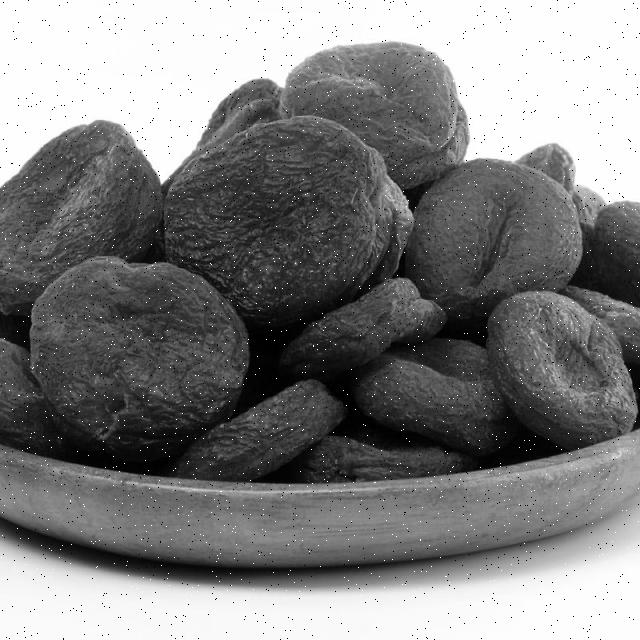Kayisi: (166, 120, 418, 327), (40, 263, 254, 449), (412, 164, 581, 314), (491, 286, 632, 454), (187, 381, 348, 483)
